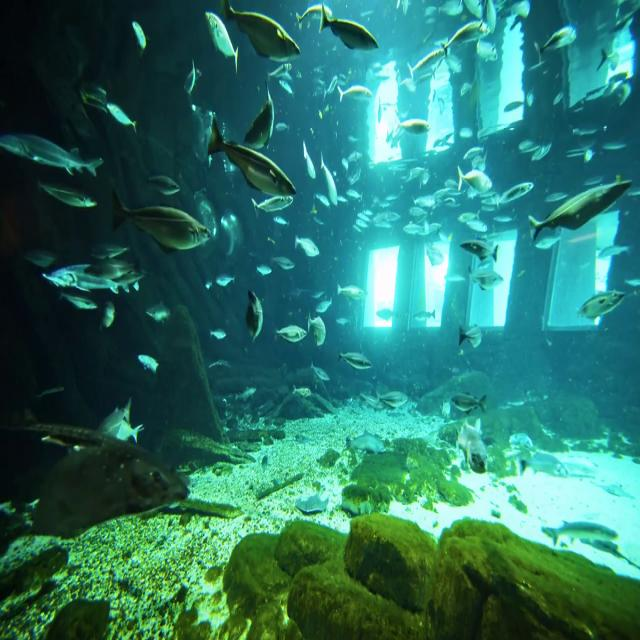fish: (207, 122, 296, 200), (106, 190, 215, 253), (530, 180, 630, 247), (0, 130, 106, 178), (224, 0, 299, 65), (43, 254, 148, 297), (319, 7, 377, 56), (242, 86, 279, 149), (203, 7, 240, 69), (443, 16, 489, 60), (534, 24, 576, 70), (457, 238, 500, 265), (456, 167, 493, 195)
